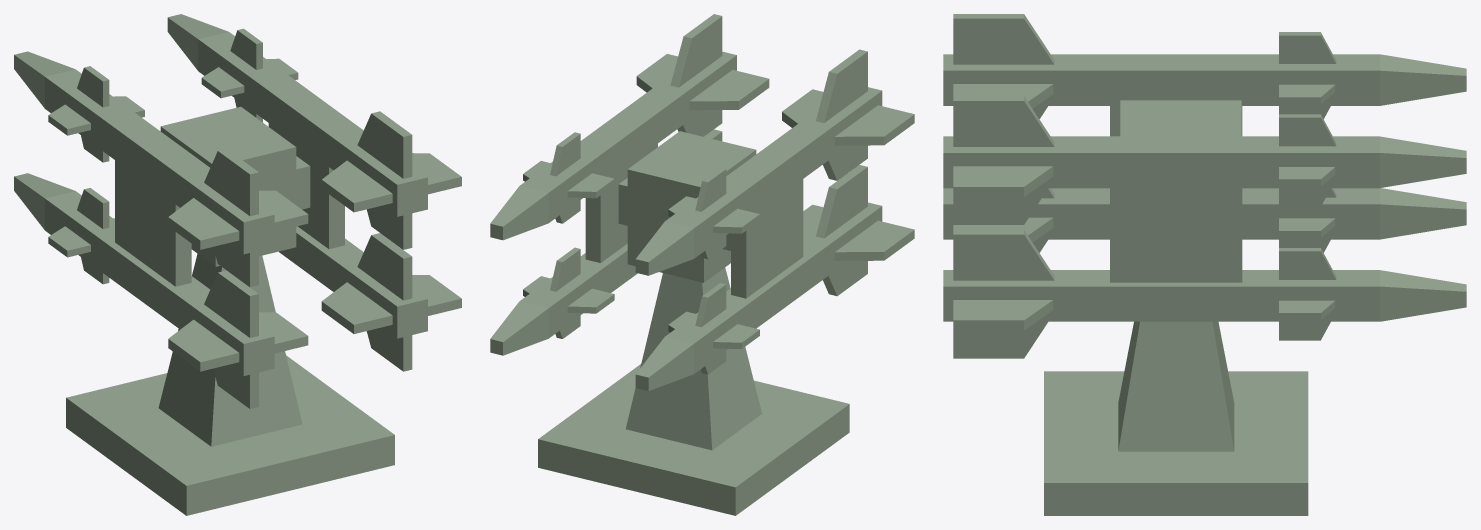
Rendered from missile_launcher.fbx.
3 renders of one model, left to right at view 1: azimuth 30°, elevation 25°; view 2: azimuth 150°, elevation 25°; view 3: azimuth 270°, elevation 25°, orthographic. The views are drawn at different scales.
Visible parts, largest first — view 1: missile_launcher, missile_03, missile_04, missile_02, turret, missile_01; view 2: missile_launcher, missile_03, missile_04, turret, missile_02, missile_01; view 3: missile_launcher, missile_04, missile_01, missile_03, turret, missile_02.
Part boxes in pixels (left/top/right/bottom): missile_launcher: left=66, top=253, right=394, bottom=515; missile_03: left=14, top=51, right=308, bottom=287; missile_04: left=167, top=14, right=461, bottom=249; missile_02: left=14, top=173, right=308, bottom=408; turret: left=115, top=106, right=344, bottom=286; missile_01: left=279, top=226, right=461, bottom=371; missile_launcher: left=538, top=267, right=849, bottom=515; missile_03: left=635, top=49, right=914, bottom=275; missile_04: left=490, top=14, right=769, bottom=240; turret: left=585, top=131, right=803, bottom=298; missile_02: left=635, top=165, right=914, bottom=390; missile_01: left=490, top=129, right=722, bottom=355; missile_launcher: left=1044, top=321, right=1308, bottom=515; missile_04: left=943, top=96, right=1466, bottom=224; missile_01: left=943, top=229, right=1466, bottom=358; missile_03: left=943, top=14, right=1466, bottom=119; turret: left=1110, top=100, right=1242, bottom=282; missile_02: left=943, top=188, right=1466, bottom=252.
Bounding box in the file's own units: 2.24 × 3 × 3.54.
